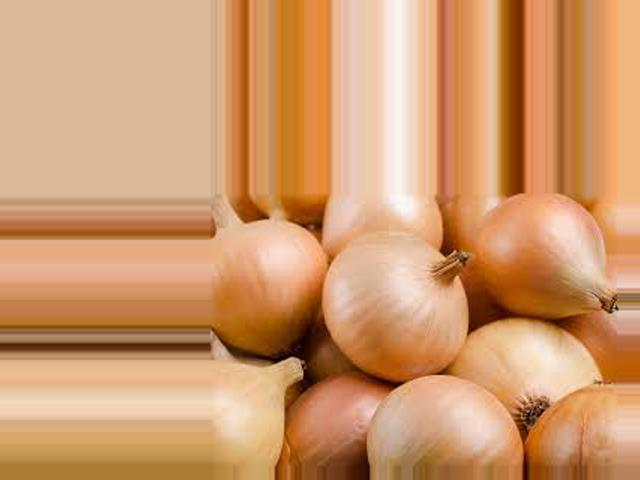onion: (317, 194, 450, 262)
